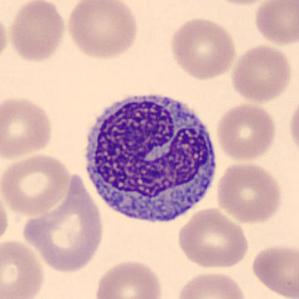Monocyte: (75, 84, 222, 230)
RBC: (19, 176, 107, 274), (175, 206, 251, 270), (1, 151, 73, 217), (64, 0, 140, 61), (214, 159, 284, 225), (168, 15, 238, 81), (5, 0, 68, 64), (228, 43, 294, 104), (214, 101, 278, 162), (0, 94, 56, 162), (92, 258, 165, 299), (0, 236, 47, 299), (250, 242, 298, 299), (174, 268, 249, 299), (251, 0, 298, 47), (0, 180, 12, 248), (286, 95, 299, 157), (0, 8, 11, 66), (206, 0, 278, 7)
